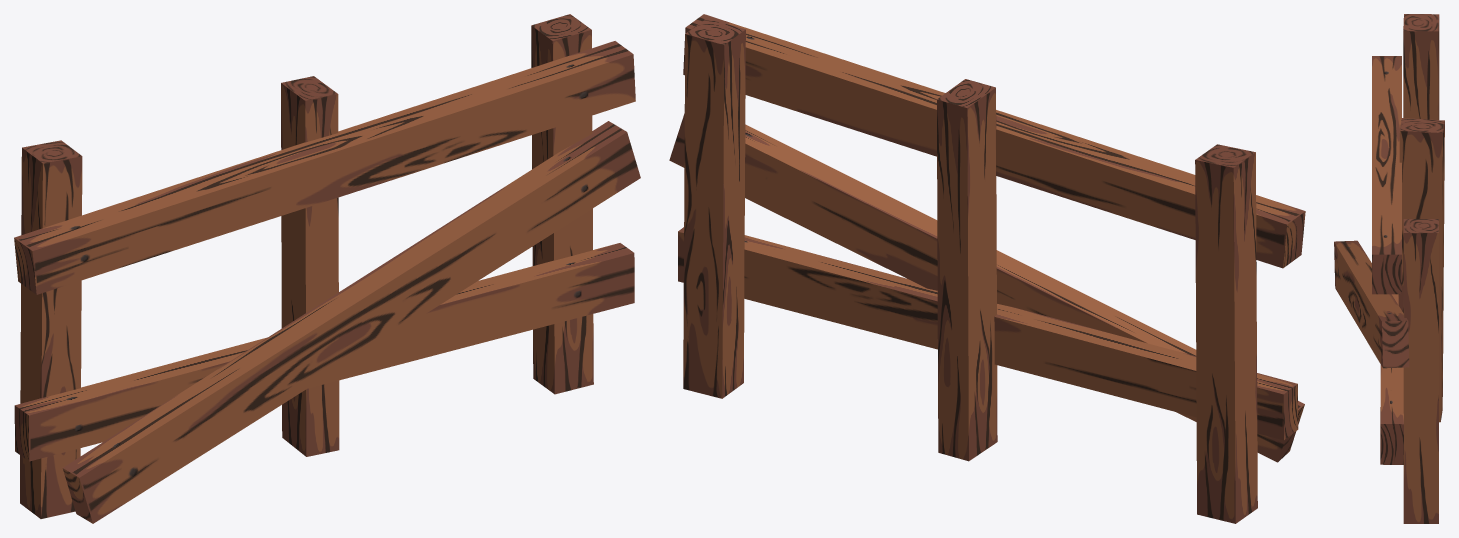
Rendered from farm_fence_01.fbx.
3 renders of one model, left to right at view 1: azimuth 30°, elevation 25°; view 2: azimuth 150°, elevation 25°; view 3: azimuth 270°, elevation 25°, orthographic. The views are drawn at different scales.
Parts seen in each view (by area): view 1: farm:fence_01; view 2: farm:fence_01; view 3: farm:fence_01.
Boxes of the visible parts, bbox=[...] form: farm:fence_01: bbox=[14, 14, 640, 523]; farm:fence_01: bbox=[669, 14, 1305, 523]; farm:fence_01: bbox=[1334, 14, 1444, 523].
Size of the model in its own units: 1.58 by 0.8755 by 0.3028.
